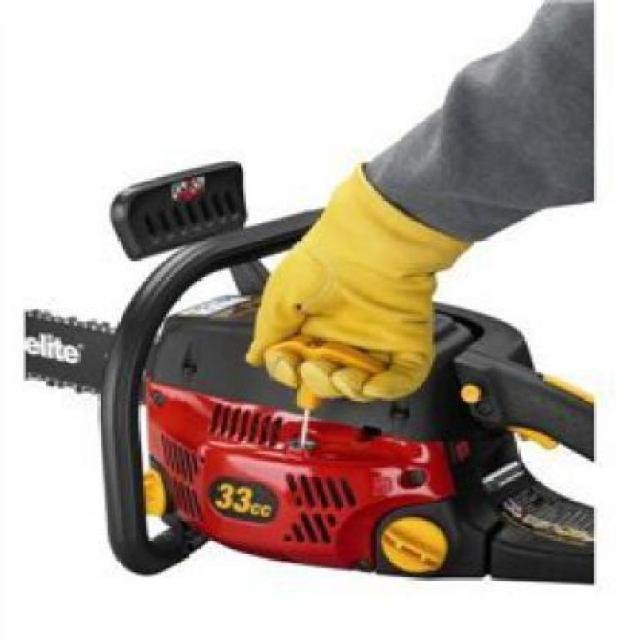Chainsaw: (25, 157, 597, 586)
